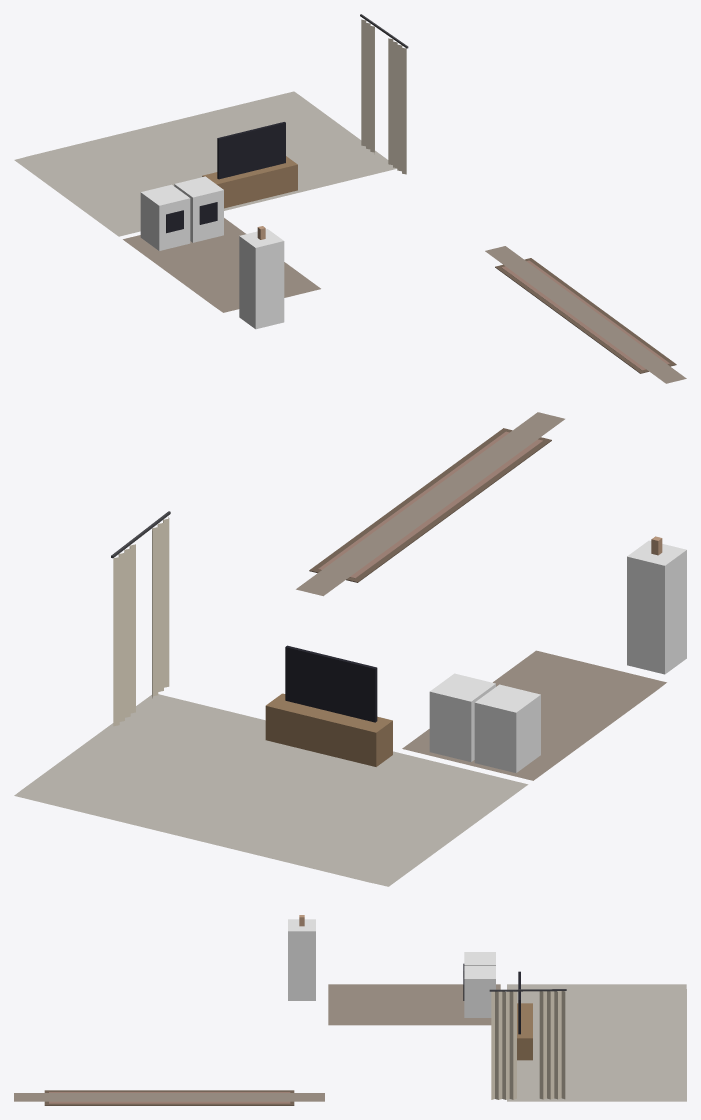
File: fine-s0.glb
3 views of the same model, one above another, from view 1: azimuth 30°, elevation 25°; view 2: azimuth 150°, elevation 25°; view 3: azimuth 270°, elevation 25° (orthographic). The views are drawn at different scales.
Parts seen in each view (by area): view 1: soft-s0, tv-console.000, water-heater.000, washer.000, washer.001; view 2: soft-s0, tv-console.000, water-heater.000, washer.000, washer.001; view 3: soft-s0, water-heater.000, washer.001, tv-console.000, washer.000.
Part boxes in pixels (left/top/right/bottom): soft-s0: left=14, top=14, right=686, bottom=383; tv-console.000: left=202, top=122, right=297, bottom=208; water-heater.000: left=239, top=226, right=284, bottom=329; washer.000: left=140, top=184, right=190, bottom=250; washer.001: left=174, top=176, right=223, bottom=242; soft-s0: left=14, top=412, right=666, bottom=886; tv-console.000: left=265, top=645, right=392, bottom=766; water-heater.000: left=627, top=536, right=686, bottom=674; washer.000: left=474, top=684, right=540, bottom=772; washer.001: left=429, top=673, right=495, bottom=761; soft-s0: left=14, top=984, right=686, bottom=1105; water-heater.000: left=288, top=915, right=315, bottom=1000; washer.001: left=463, top=966, right=495, bottom=1017; tv-console.000: left=517, top=971, right=532, bottom=1060; washer.000: left=463, top=952, right=495, bottom=977.
Size of the model in its own units: 5.56 by 2.4 by 13.11.
